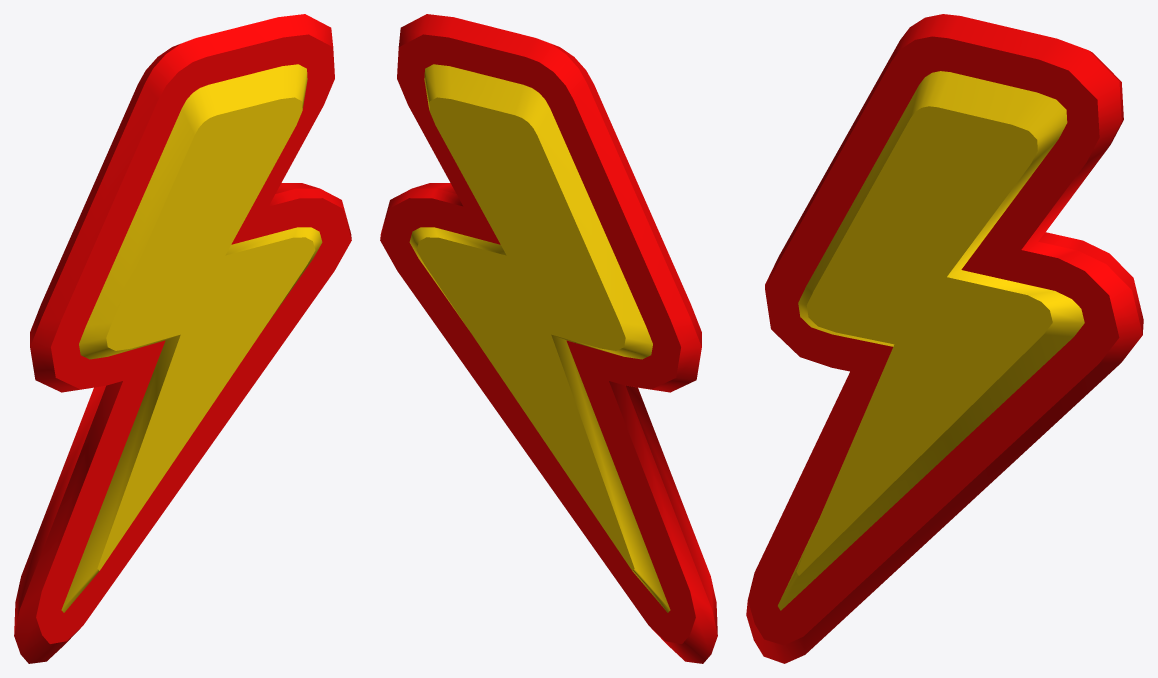
The model's file is collect_Thor.fbx.
3 views of the same model, side by side, from view 1: azimuth 30°, elevation 25°; view 2: azimuth 150°, elevation 25°; view 3: azimuth 330°, elevation 25° (orthographic). The views are drawn at different scales.
Visible parts, largest first — view 1: Line002; view 2: Line002; view 3: Line002.
Boxes of the visible parts, x1,y1,x2,y2 form: Line002: (14,14,351,663); Line002: (380,14,717,663); Line002: (746,14,1143,663).
Bounding box in the file's own units: 47.74 × 79.58 × 10.
Materials: 1 (1 with a texture image).
